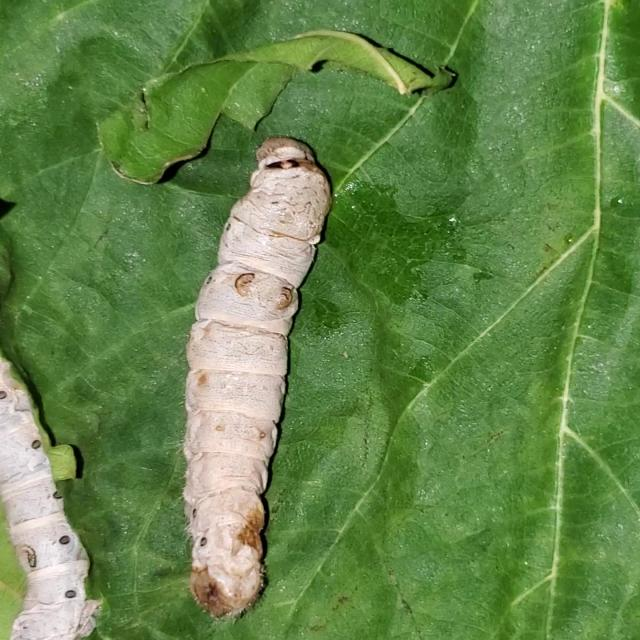Grasserie: (162, 105, 341, 618)
